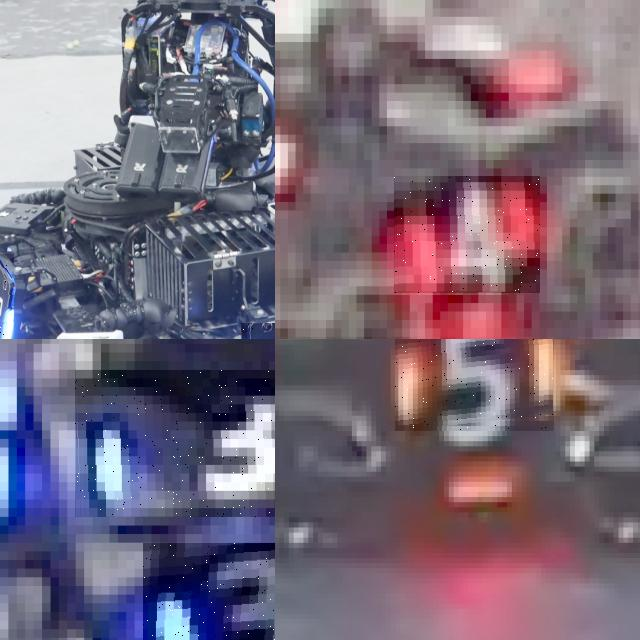B3: (75, 370, 275, 517), (143, 542, 275, 640)
Bs: (0, 253, 14, 339)
R4: (394, 176, 540, 294)
R5: (395, 339, 555, 430)
